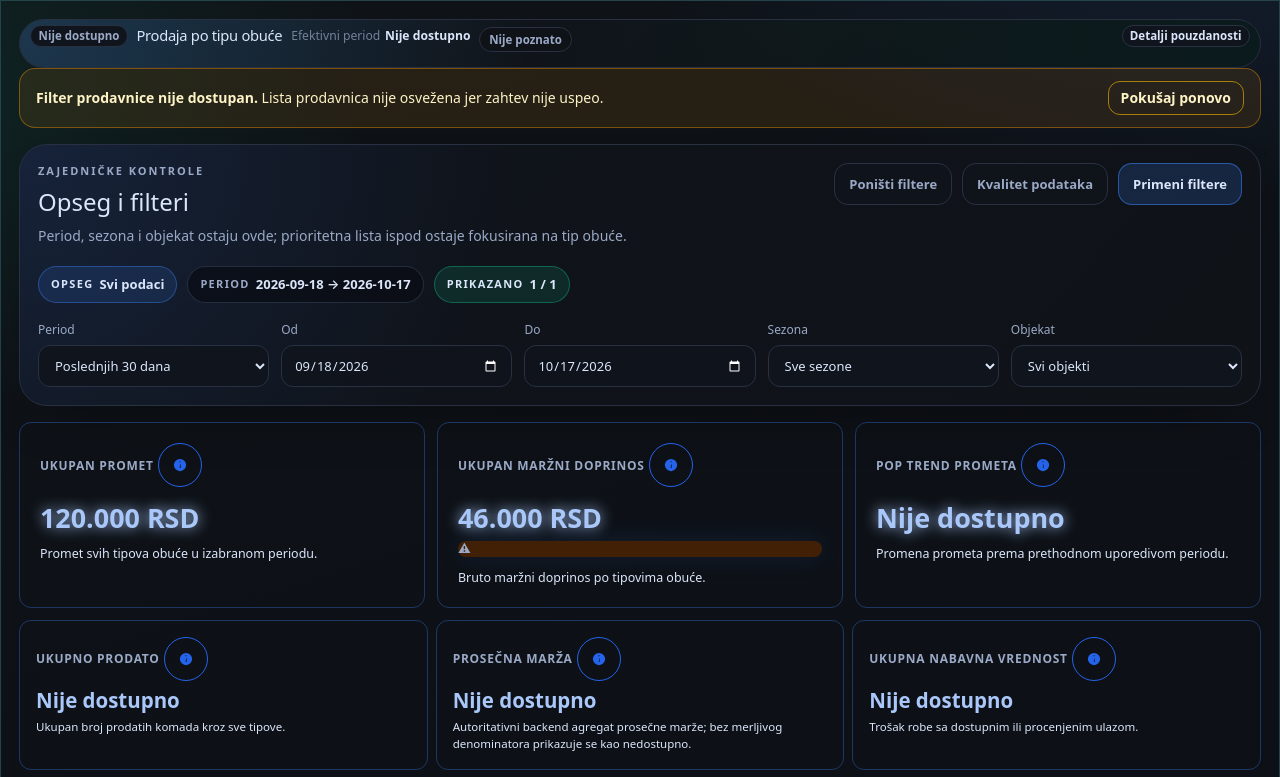
Test: ShoeTypeSalesStatsPage dataScope lineage › surfaces a store-filter failure and retries the store request
The image size is (1280, 777).
Expected: the message shows "Filter prodavnice nije dostupan.", [36,88,258,107]
Expected: the dropdown showing "Svi objekti" is disabled, [1011,345,1242,387]
Click the button "Pokušaj ponovo": [1176, 98] box [1108,81,1244,115]
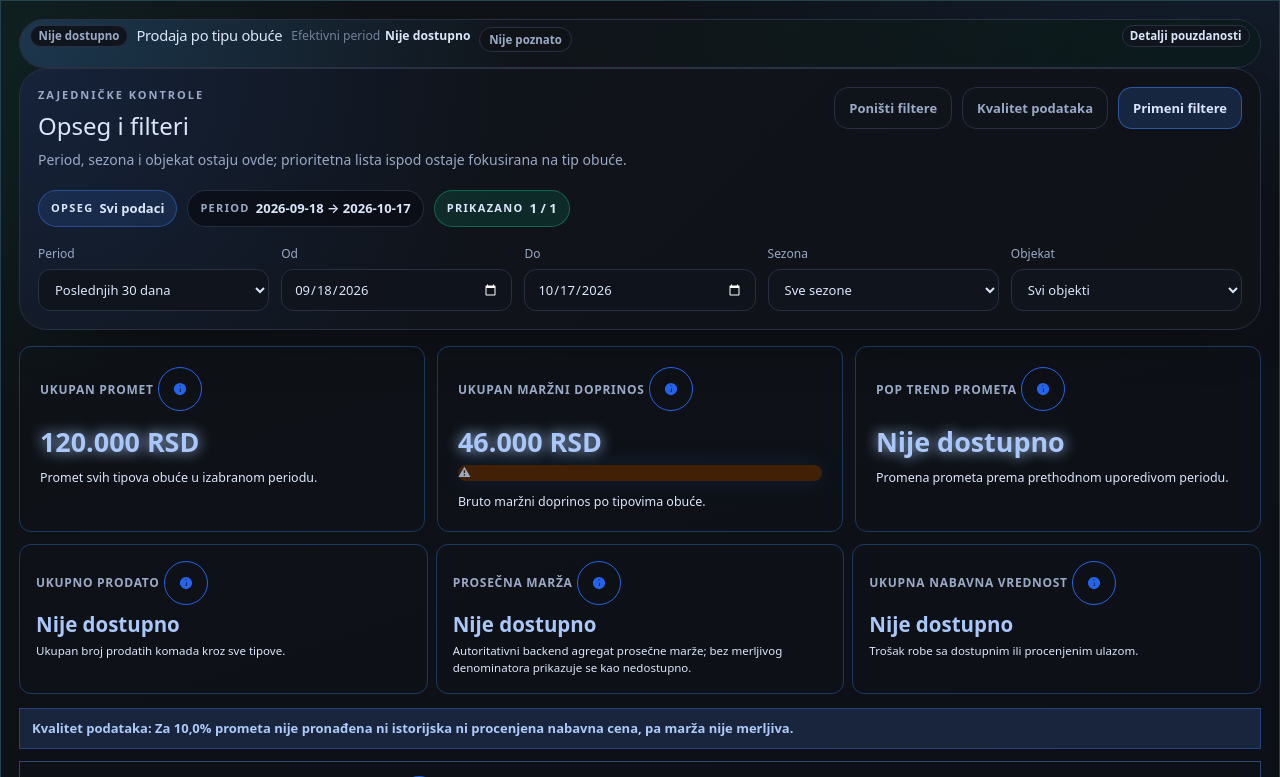
Expected: the message "Filter prodavnice nije dostupan. Lista prodavnica nije osvežena jer zahtev nije" is gone
Expected: the dropdown showing "Svi objekti" is enabled, [1011,269,1242,311]
